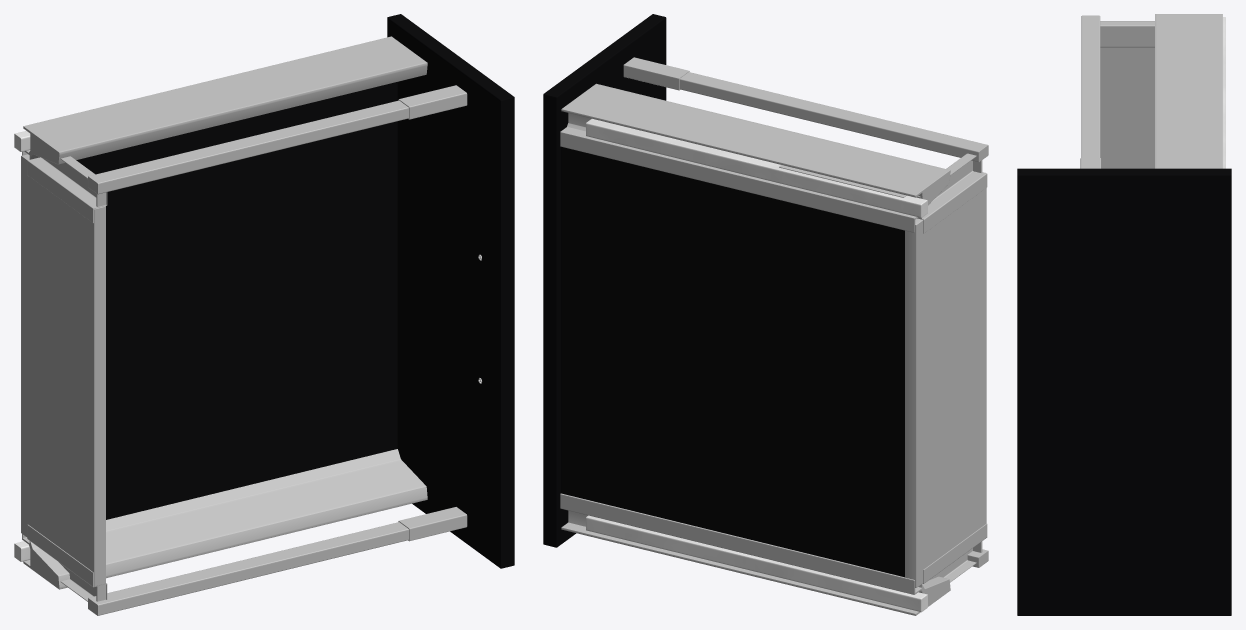
Rendered from Kitchen05Drawer02.obj.
3 renders of one model, left to right at view 1: azimuth 30°, elevation 25°; view 2: azimuth 150°, elevation 25°; view 3: azimuth 270°, elevation 25°, orthographic. The views are drawn at different scales.
Visible parts, largest first — view 1: Kitchen05Drawer02; view 2: Kitchen05Drawer02; view 3: Kitchen05Drawer02.
Boxes of the visible parts, x1,y1,x2,y2 form: Kitchen05Drawer02: [14, 14, 514, 615]; Kitchen05Drawer02: [543, 14, 988, 615]; Kitchen05Drawer02: [1017, 14, 1231, 615].
Size of the model in its own units: 0.5199 by 0.5969 by 0.263.
4 materials, 1 textured.
